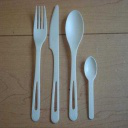fork: (27, 1, 49, 124)
